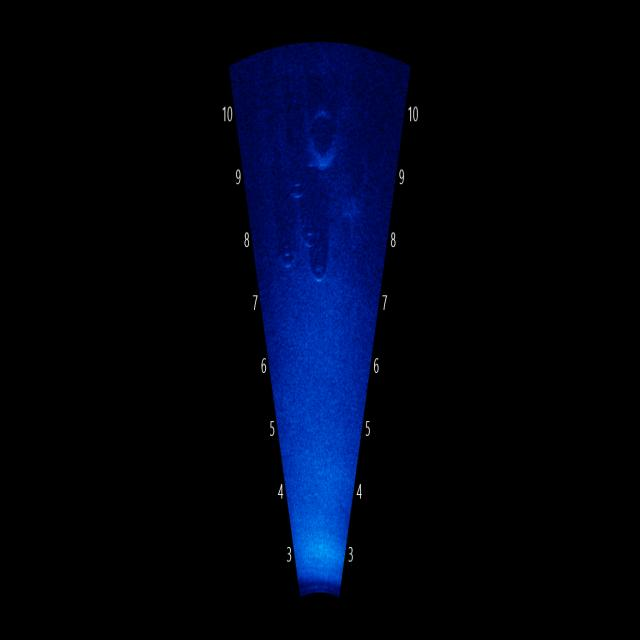circle: (298, 81, 356, 181), (306, 225, 335, 298), (275, 222, 304, 284), (299, 198, 326, 262), (285, 165, 311, 213)
